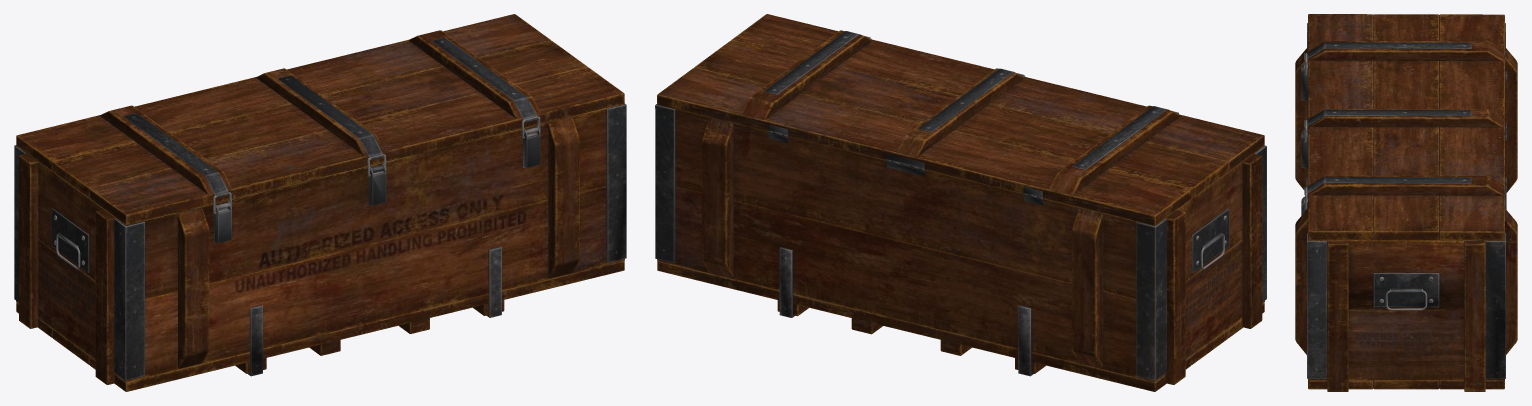
File: wooden_military_crate.gltf
3 renders of one model, left to right at view 1: azimuth 30°, elevation 25°; view 2: azimuth 150°, elevation 25°; view 3: azimuth 270°, elevation 25°, orthographic. The views are drawn at different scales.
Parts seen in each view (by area): view 1: wooden_military_crate, wooden_military_crate_lid; view 2: wooden_military_crate, wooden_military_crate_lid; view 3: wooden_military_crate_lid, wooden_military_crate.
Part boxes in pixels (x1,y1,x2,y2): wooden_military_crate: (14, 103, 626, 391); wooden_military_crate_lid: (16, 14, 624, 224); wooden_military_crate: (655, 104, 1266, 391); wooden_military_crate_lid: (657, 14, 1264, 225); wooden_military_crate_lid: (1304, 14, 1506, 240); wooden_military_crate: (1295, 23, 1517, 391).
Size of the model in its own units: 1.24 by 0.4647 by 0.5198.
Materials: 1 (1 with a texture image).
